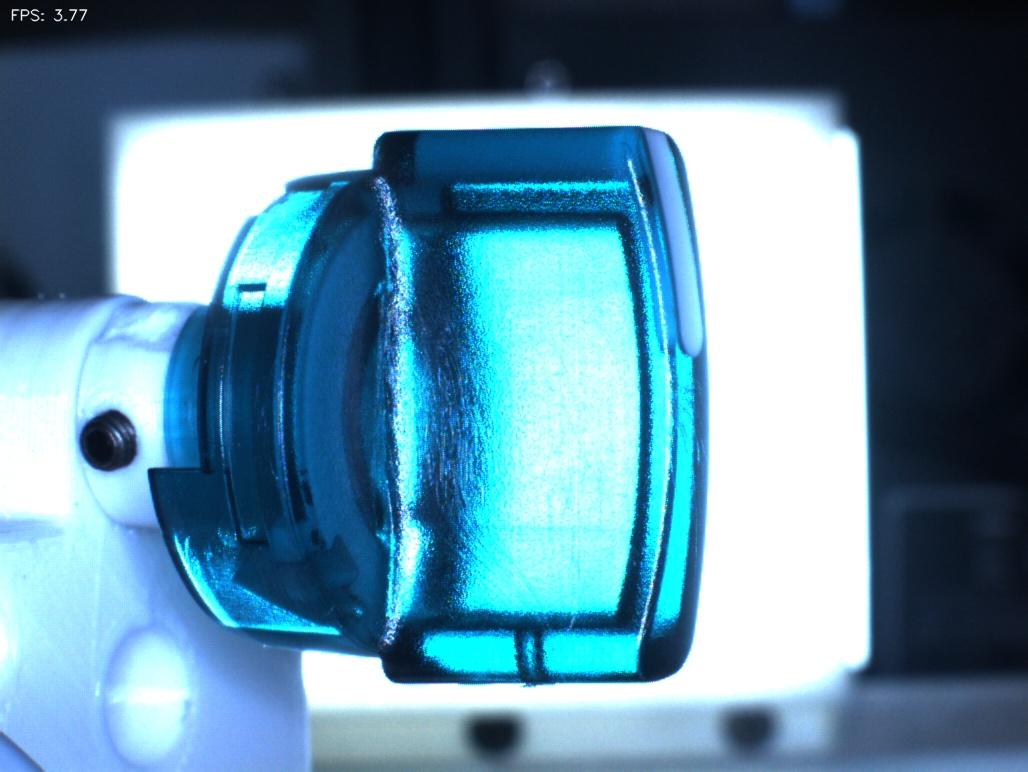Bulle: (492, 588, 584, 723)
